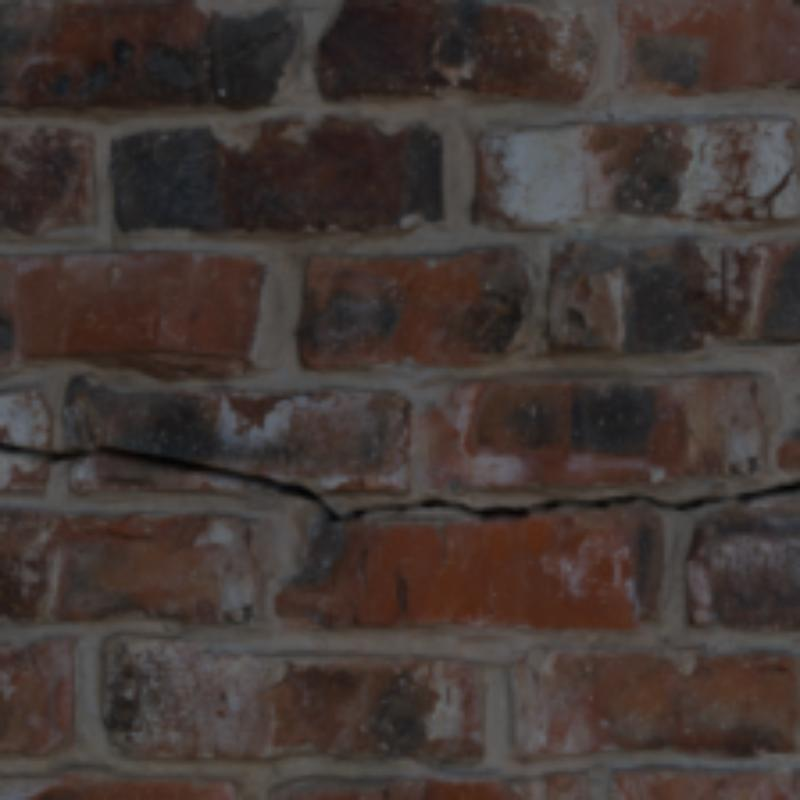crack: (0, 439, 796, 525)
